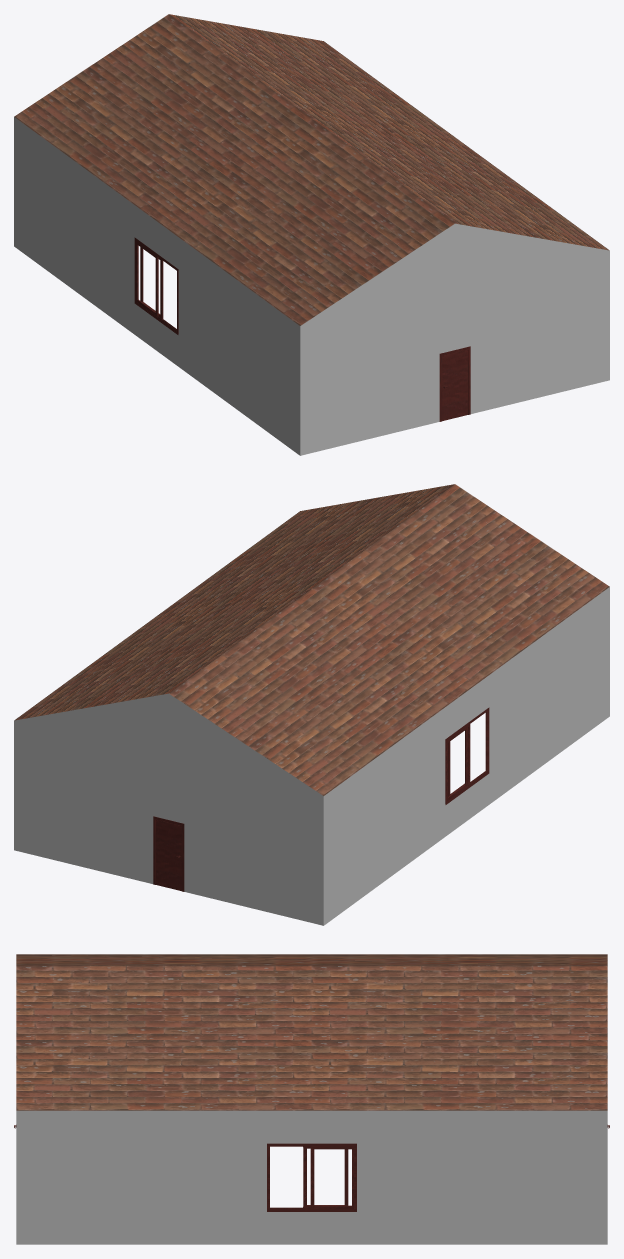
File: House.fbx
3 renders of one model, top to bottom at view 1: azimuth 30°, elevation 25°; view 2: azimuth 150°, elevation 25°; view 3: azimuth 270°, elevation 25°, orthographic. The views are drawn at different scales.
Parts seen in each view (by area): view 1: house, Handle_Front.002, windowFrame; view 2: house, Handle_Front.002, windowFrame; view 3: house, windowFrame.
Boxes of the visible parts, x1,y1,x2,y2 form: house: (14,14,609,455); Handle_Front.002: (439,346,470,421); windowFrame: (134,237,178,334); house: (14,484,609,925); Handle_Front.002: (153,816,184,891); windowFrame: (445,707,489,804); house: (16,954,607,1244); windowFrame: (267,1143,356,1211).
Size of the model in its own units: 1004 by 600 by 1613.
